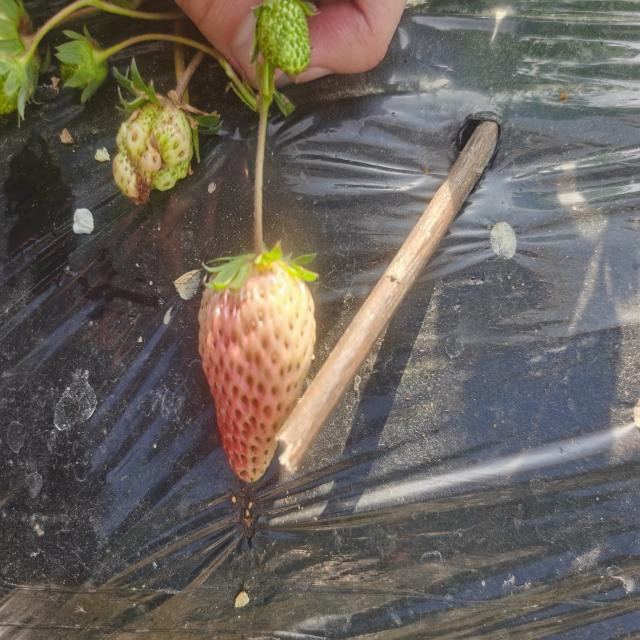stem: (254, 179, 267, 258)
strawberry: (198, 254, 316, 481)
